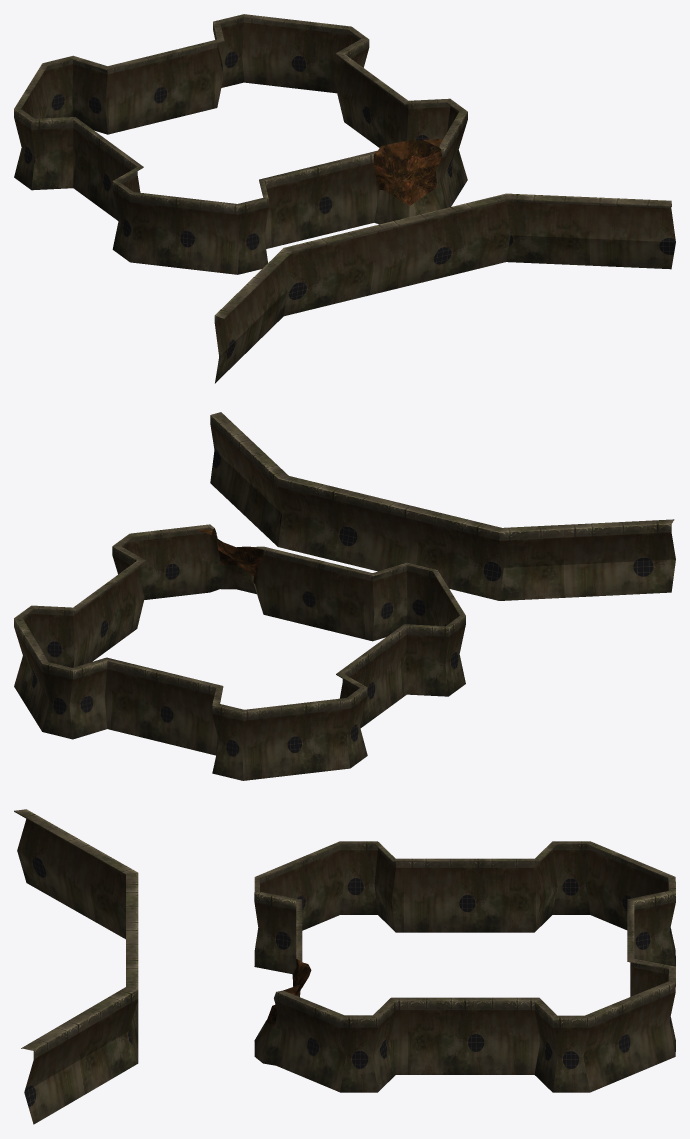
The model's file is mlzd_qiangm_01.FBX.
3 renders of one model, top to bottom at view 1: azimuth 30°, elevation 25°; view 2: azimuth 150°, elevation 25°; view 3: azimuth 270°, elevation 25°, orthographic. The views are drawn at different scales.
Visible parts, largest first — view 1: mlzd_qiangm_01; view 2: mlzd_qiangm_01; view 3: mlzd_qiangm_01.
Part boxes in pixels (x1=…): mlzd_qiangm_01: x1=14, y1=14, x2=675, y2=383; mlzd_qiangm_01: x1=14, y1=412, x2=675, y2=780; mlzd_qiangm_01: x1=14, y1=809, x2=675, y2=1124.
Bounding box in the file's own units: 8796 × 1270 × 10174.
